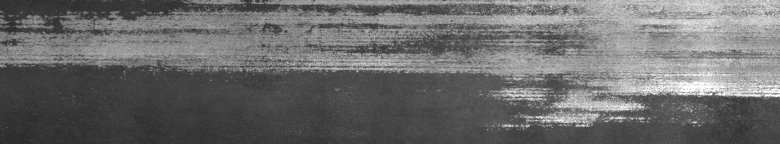kb: (304, 4, 776, 132)
